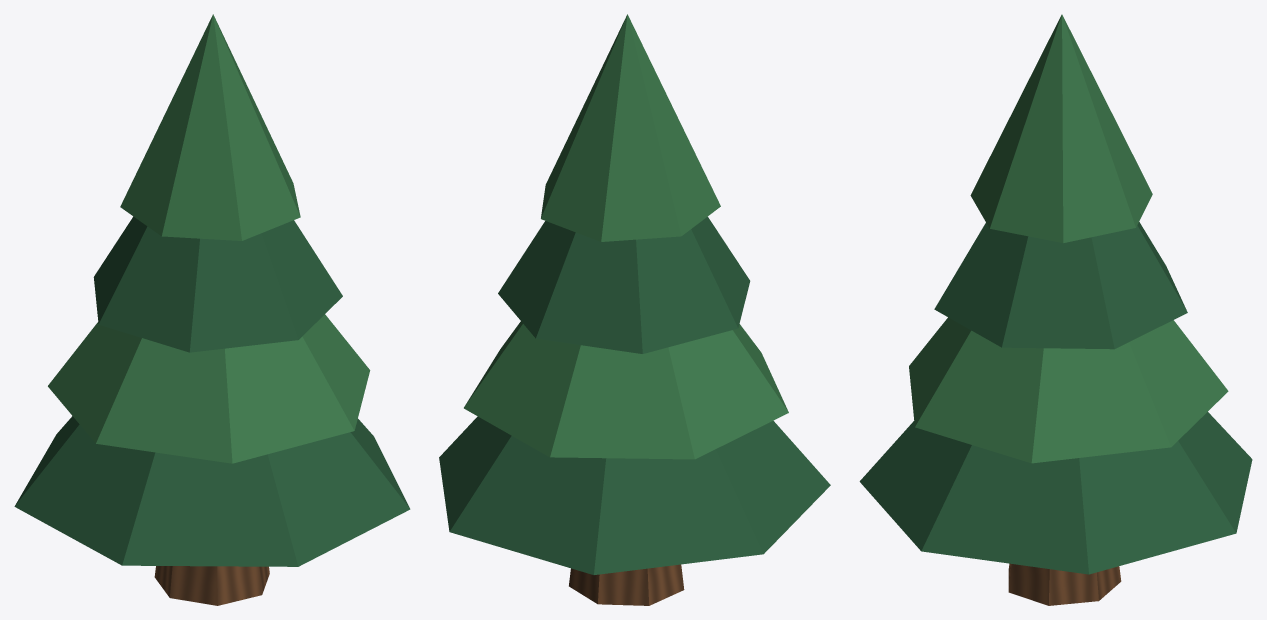
File: Pino_C.fbx
3 views of the same model, side by side, from view 1: azimuth 30°, elevation 25°; view 2: azimuth 150°, elevation 25°; view 3: azimuth 270°, elevation 25° (orthographic).
Visible parts, largest first — view 1: Kit_Pino_C; view 2: Kit_Pino_C; view 3: Kit_Pino_C.
Part boxes in pixels (x1,y1,x2,y2): Kit_Pino_C: (14, 14, 410, 605); Kit_Pino_C: (439, 14, 830, 605); Kit_Pino_C: (859, 14, 1252, 605).
Bounding box in the file's own units: 1.86 × 2.96 × 1.86.
